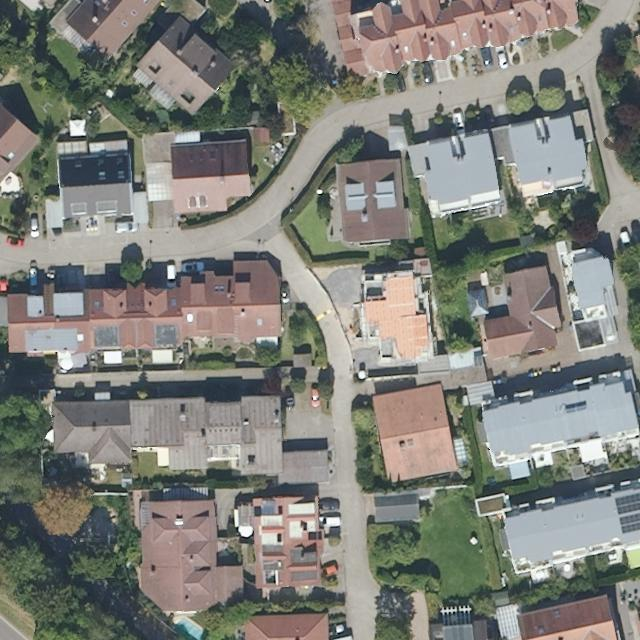PV: (612, 492, 639, 537)
